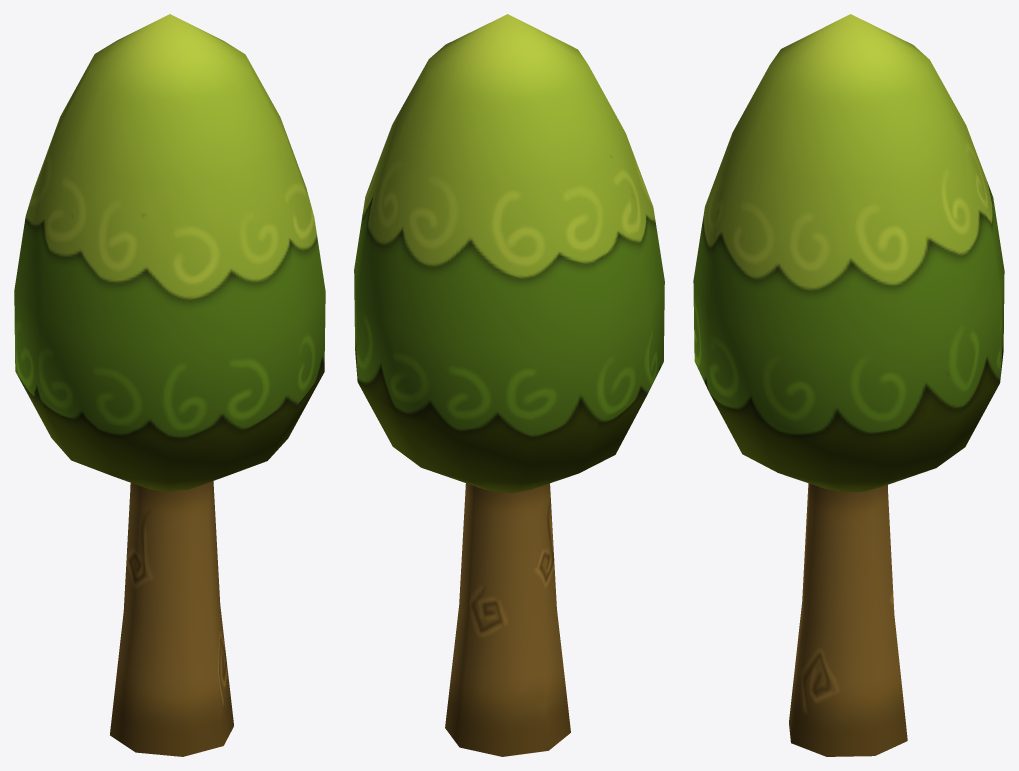
The model's file is Tree2.FBX.
The picture shows the model from 3 angles, left to right: view 1: azimuth 30°, elevation 25°; view 2: azimuth 150°, elevation 25°; view 3: azimuth 270°, elevation 25°; orthographic projection.
Visible parts, largest first — view 1: Tree 2; view 2: Tree 2; view 3: Tree 2.
Part boxes in pixels (<box>): Tree 2: <box>14,14,325,756</box>; Tree 2: <box>354,14,664,756</box>; Tree 2: <box>693,14,1004,756</box>.
Size of the model in its own units: 56.53 by 144 by 56.44.
